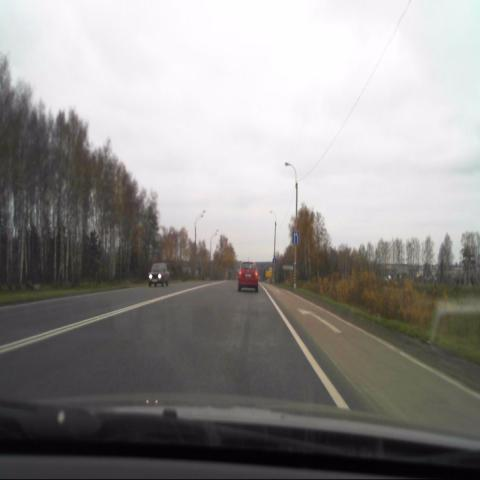5_15_5: (292, 229, 299, 245)
